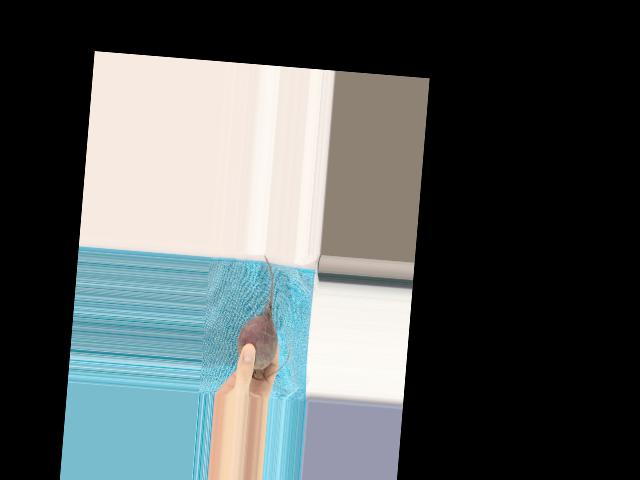beet: (234, 253, 296, 381)
